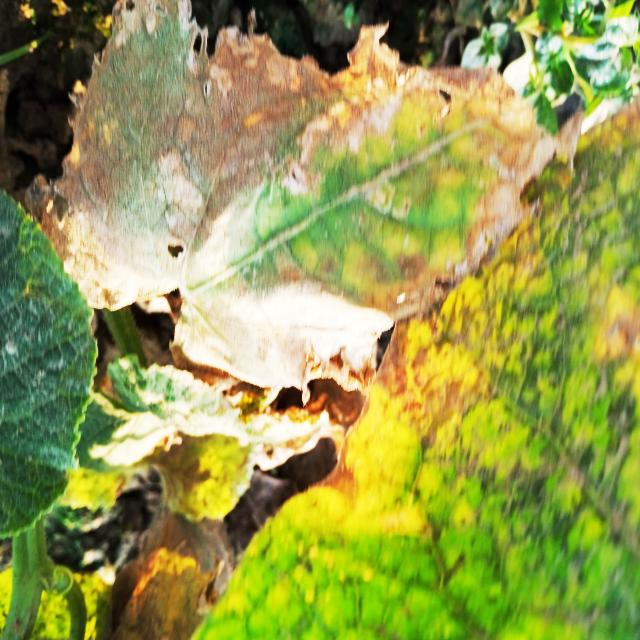Gummy-Stem-Blight: (24, 0, 561, 412)
